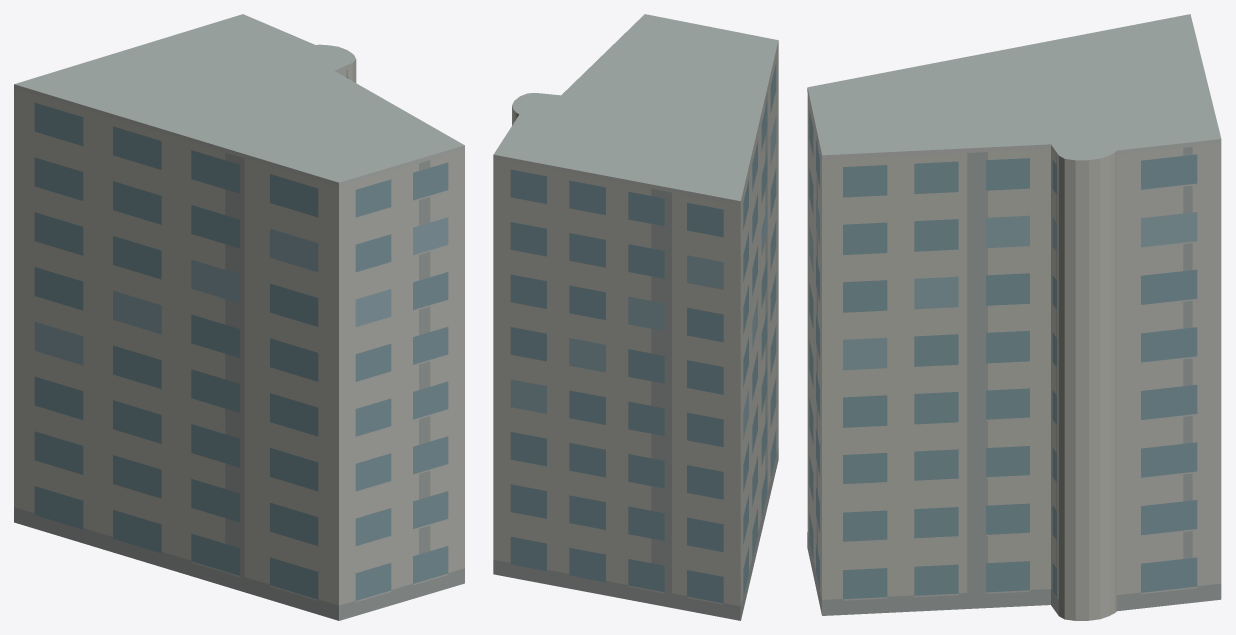
File: survey-upis-32873437.glb
3 renders of one model, left to right at view 1: azimuth 30°, elevation 25°; view 2: azimuth 150°, elevation 25°; view 3: azimuth 270°, elevation 25°, orthographic. The views are drawn at different scales.
Parts seen in each view (by area): view 1: survey-upis-32873437.tmp; view 2: survey-upis-32873437.tmp; view 3: survey-upis-32873437.tmp.
Part boxes in pixels (box(x1,y1,x2,y2)): survey-upis-32873437.tmp: box(14, 14, 464, 620); survey-upis-32873437.tmp: box(493, 14, 778, 620); survey-upis-32873437.tmp: box(807, 14, 1221, 620).
Bounding box in the file's own units: 16.63 × 24.4 × 19.88.
